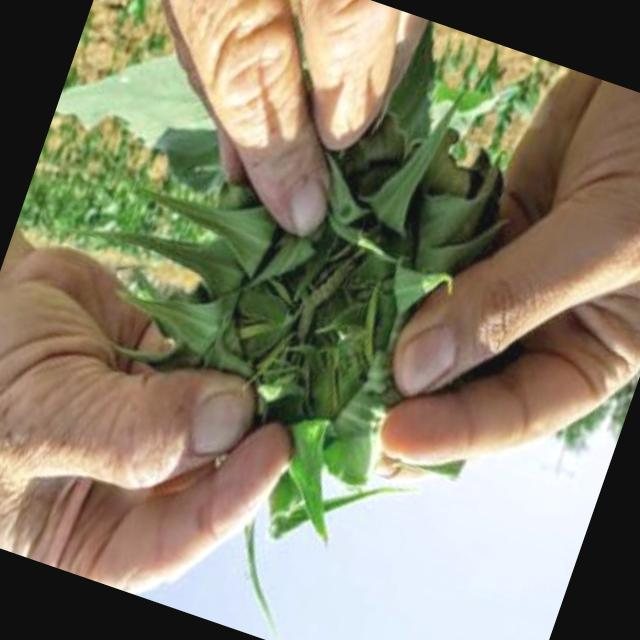Cotton bollworm: (275, 230, 382, 342)
